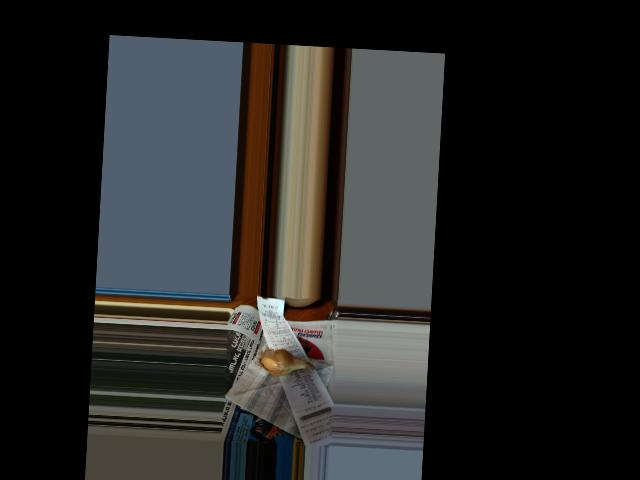onion: (257, 347, 310, 378)
